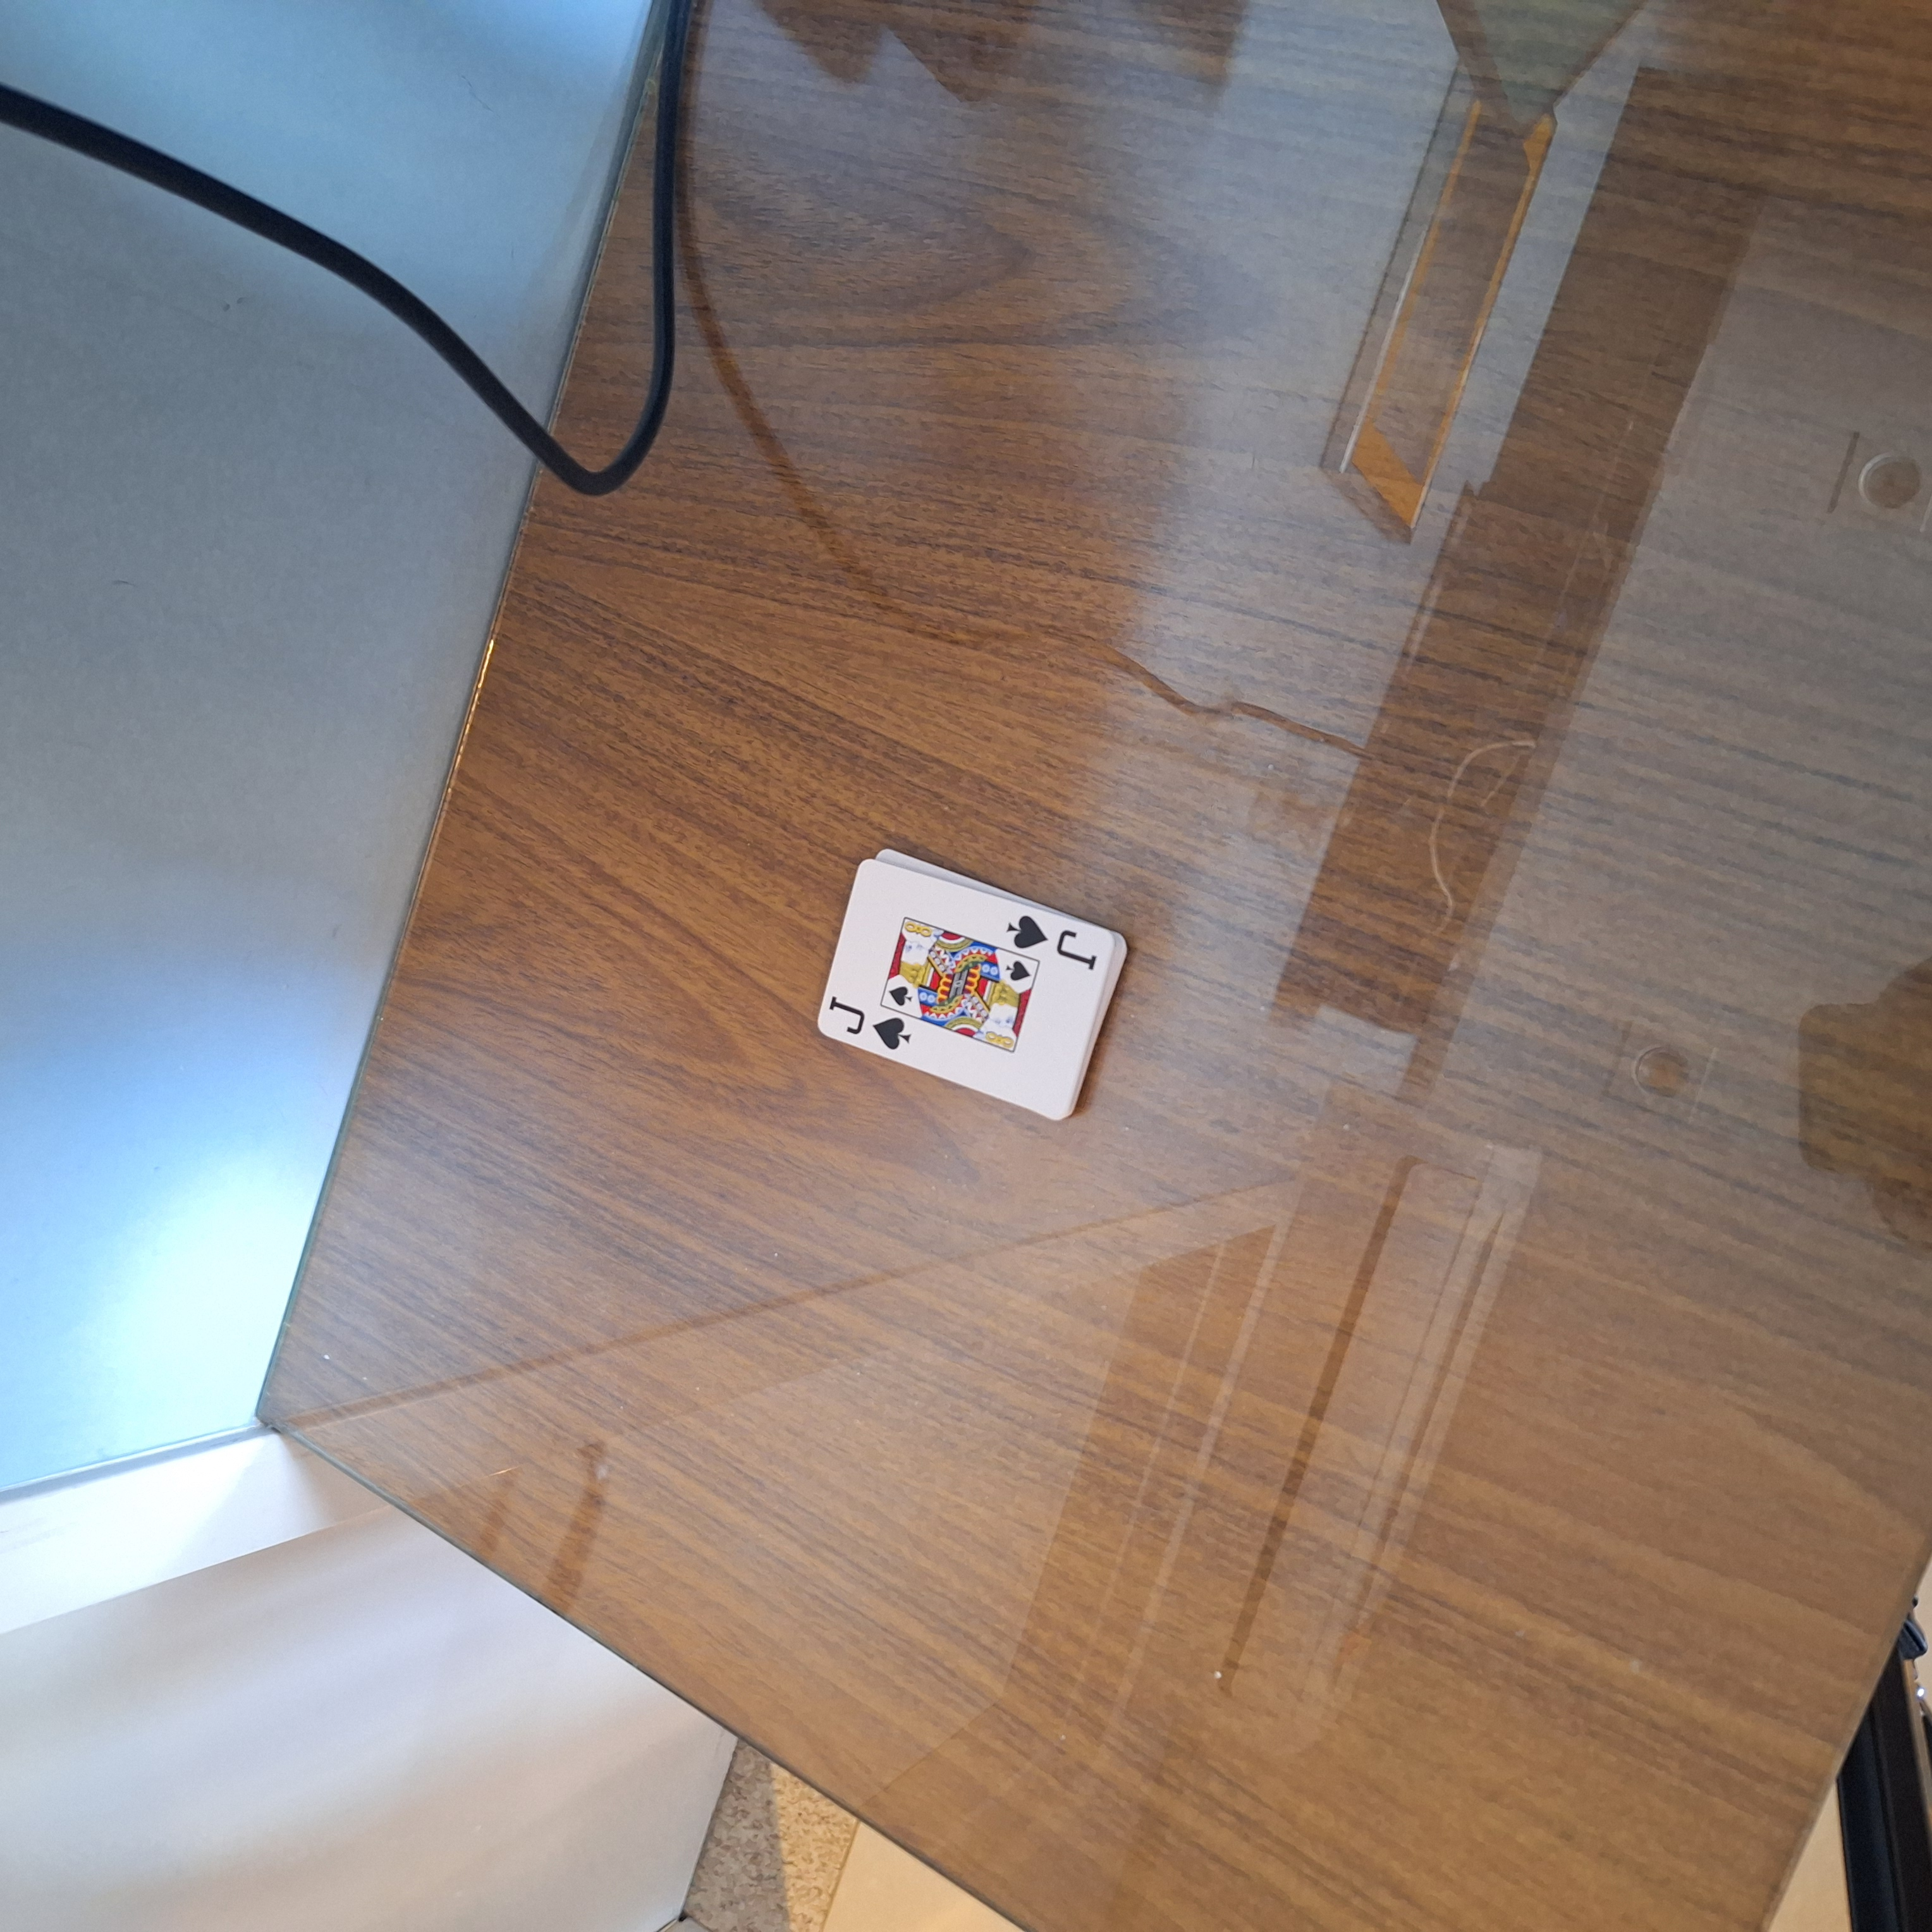JE: (996, 906, 1100, 977), (814, 994, 916, 1063)
